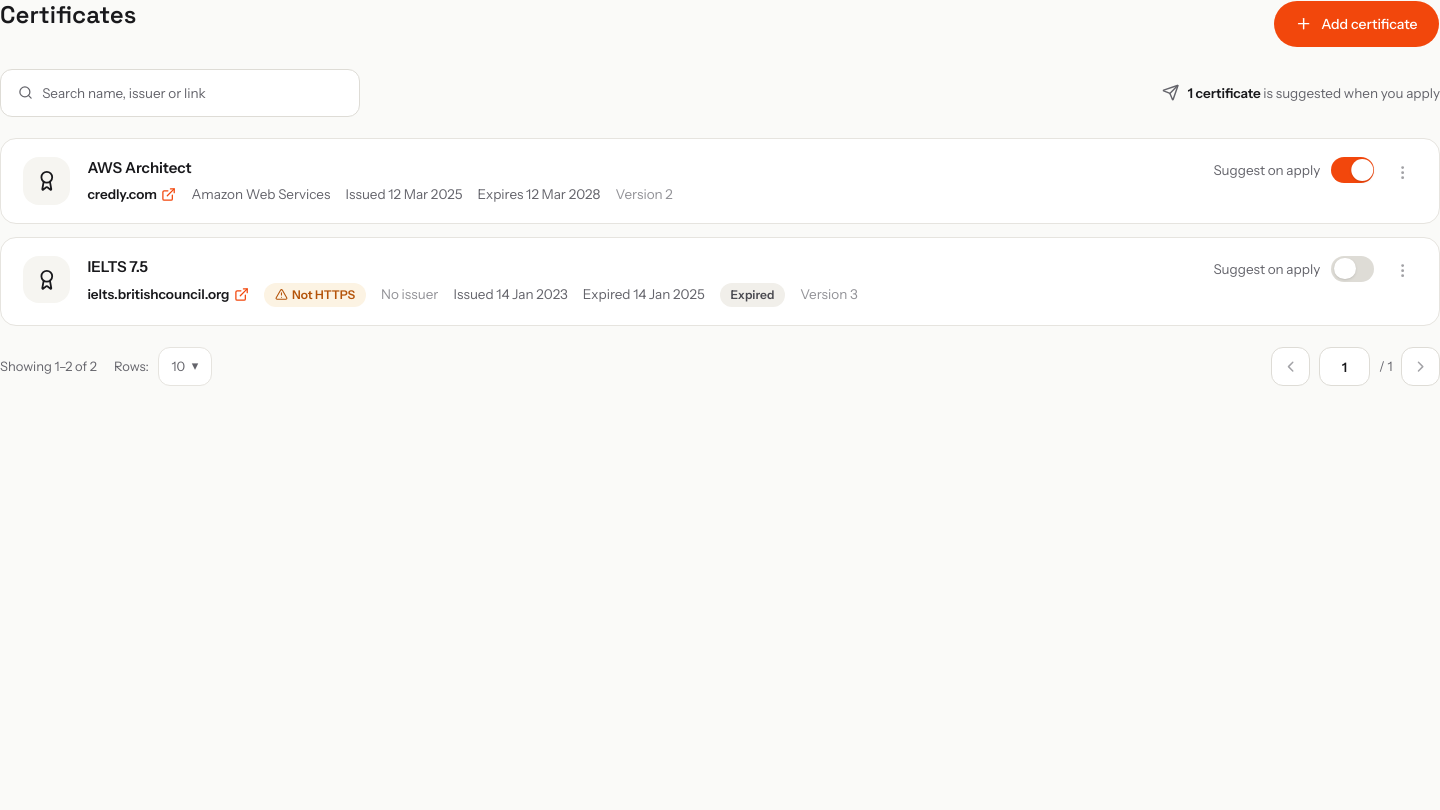
Test case: Certificates page (UC-S4-CERT-01..05) › asks to load the latest version when the certificate changed elsewhere
This screenshot has width=1440, height=810.
Click the switch named "Suggest AWS Architect when I apply" at (1353, 170), box [1331,157,1374,183]
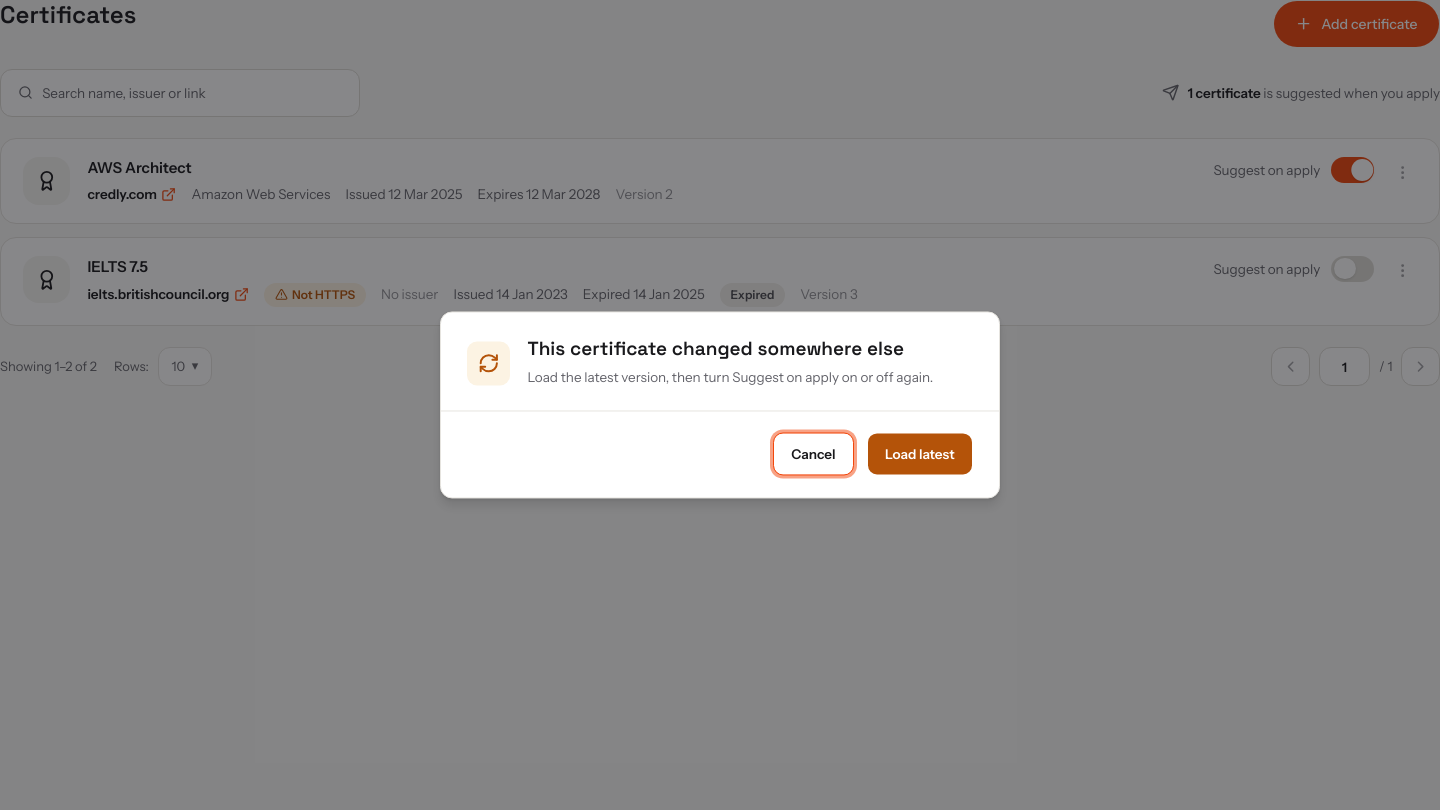
Now the text "Load the latest version, then turn Suggest on apply on or off again." is shown, box [528,368,973,388]
